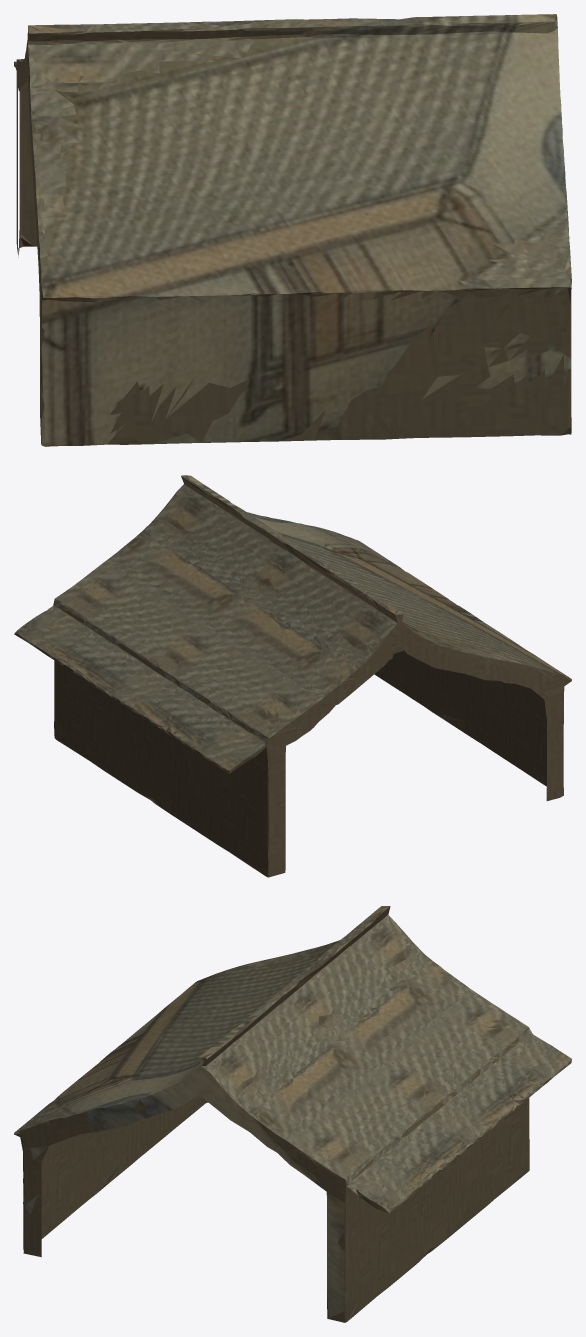
3 views of the same model, one above another, from view 1: azimuth 30°, elevation 25°; view 2: azimuth 150°, elevation 25°; view 3: azimuth 270°, elevation 25° (orthographic). The views are drawn at different scales.
Parts seen in each view (by area): view 1: painted, wall, roof; view 2: roof, wall, painted; view 3: roof, wall, painted.
Boxes of the visible parts, box(x1,y1,x2,y2) form: painted: box(40, 14, 571, 446); wall: box(14, 26, 571, 446); roof: box(14, 18, 571, 288); roof: box(14, 475, 544, 805); wall: box(14, 476, 571, 877); painted: box(121, 475, 570, 753); roof: box(14, 906, 571, 1252); wall: box(14, 906, 571, 1322); painted: box(23, 949, 461, 1317).
Bounding box in the file's own units: 6.57 × 3.09 × 6.64.
3 materials, 3 textured.
